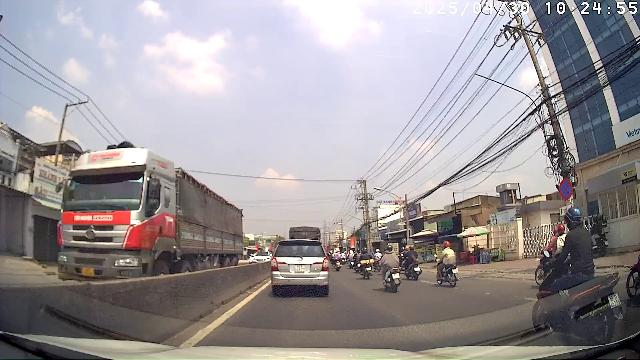130-cam-dung-va-do-xe: (560, 180, 572, 200)
